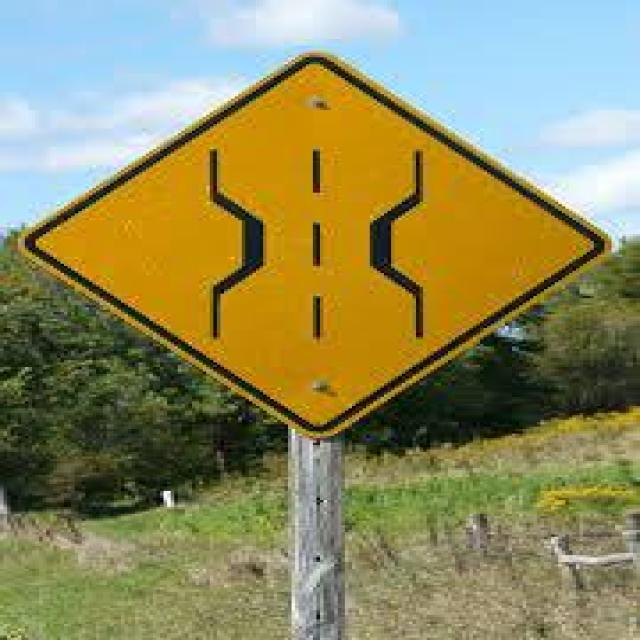Narrow_Bridge: (27, 54, 610, 441)
